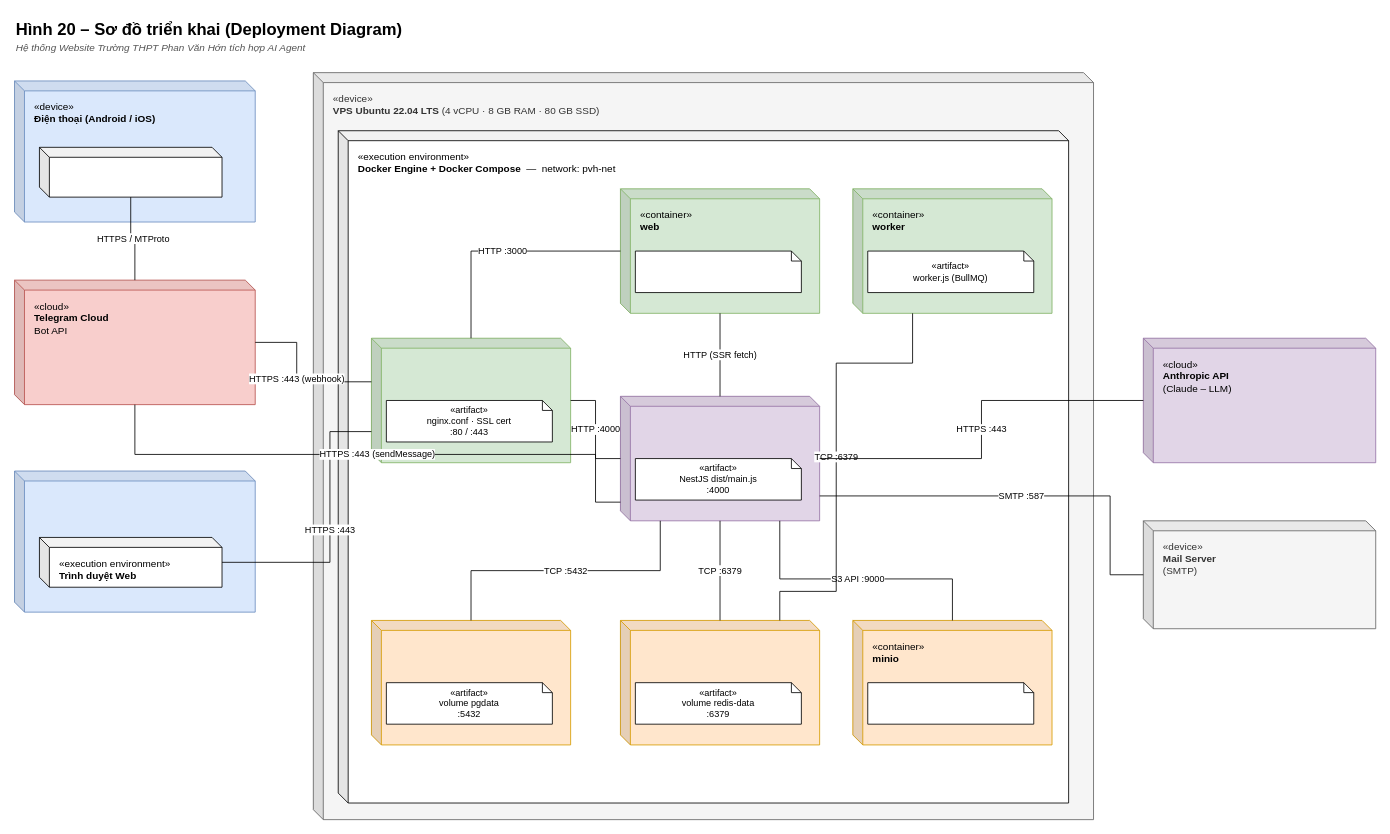
The diagram is 1390 pixels wide and 834 high, and some of its shapes have lost their labels. Each missing label, with the box of its shape:
«artifact» Next.js build :3000: (635, 250, 801, 293)
«artifact» volume media :9000: (867, 682, 1034, 724)
«container» api: (620, 395, 820, 521)
«container» nginx:alpine: (371, 337, 571, 463)
«container» postgres:16: (371, 620, 571, 745)
«container» redis:7: (620, 620, 820, 745)
«device» Máy tính người dùng: (14, 470, 255, 612)
«execution environment» Telegram App: (39, 146, 222, 197)
